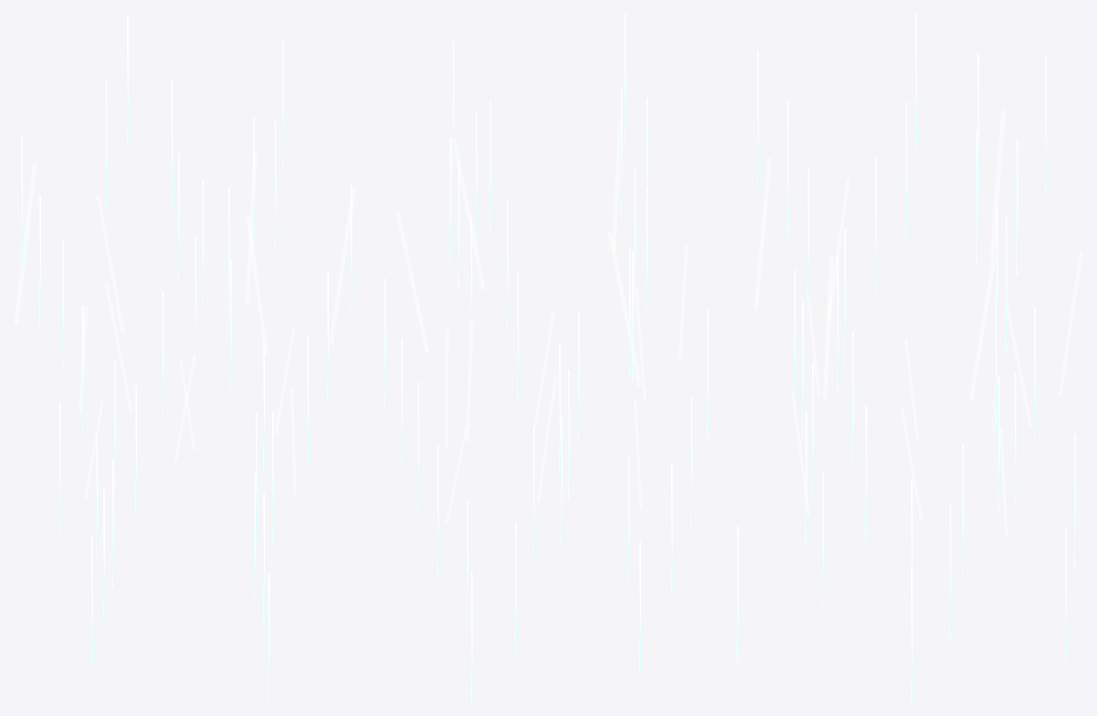
The model's file is 02_warp_hex_crystals.glb.
3 views of the same model, side by side, from view 1: azimuth 30°, elevation 25°; view 2: azimuth 150°, elevation 25°; view 3: azimuth 270°, elevation 25° (orthographic). The views are drawn at different scales.
Parts seen in each view (by area): view 1: WarpShard_06, WarpShard_12, WarpShard_10, WarpShard_02, WarpShard_04; view 2: WarpShard_06, WarpShard_12, WarpShard_02, WarpShard_10; view 3: WarpShard_06, WarpShard_12, WarpShard_10, WarpShard_02, WarpShard_04.
Boxes of the visible parts, x1,y1,x2,y2 form: WarpShard_06: (14,162,36,324); WarpShard_12: (329,188,355,344); WarpShard_10: (246,215,268,355); WarpShard_02: (245,150,257,305); WarpShard_04: (97,196,124,331); WarpShard_06: (608,231,641,386); WarpShard_12: (452,137,485,289); WarpShard_02: (396,212,428,352); WarpShard_10: (612,120,620,252); WarpShard_06: (990,110,1005,258); WarpShard_12: (823,256,833,398); WarpShard_10: (754,158,771,310); WarpShard_02: (969,259,995,400); WarpShard_04: (1058,251,1082,396).
Bounding box in the file's own units: 12.93 × 27 × 13.92.
